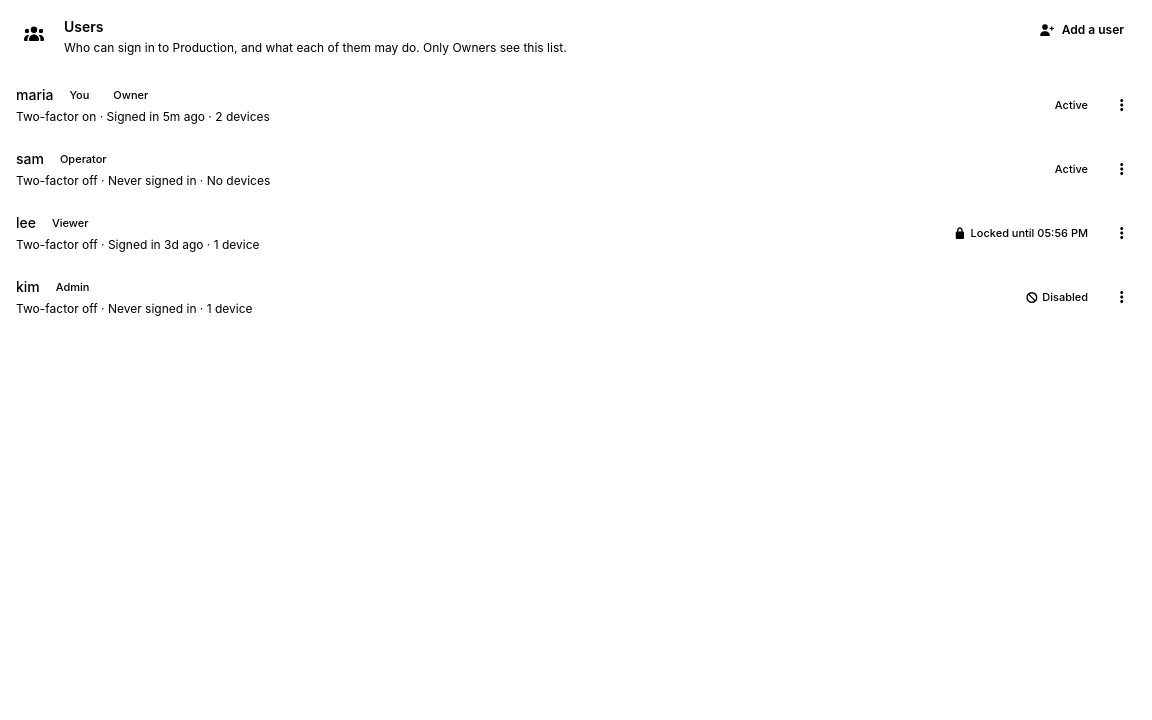
it: UsersCard › adds a user with a role and a first password, then offers an enrollment code
Click the button "Add a user" at (1081, 30), box [1027,16,1136,44]
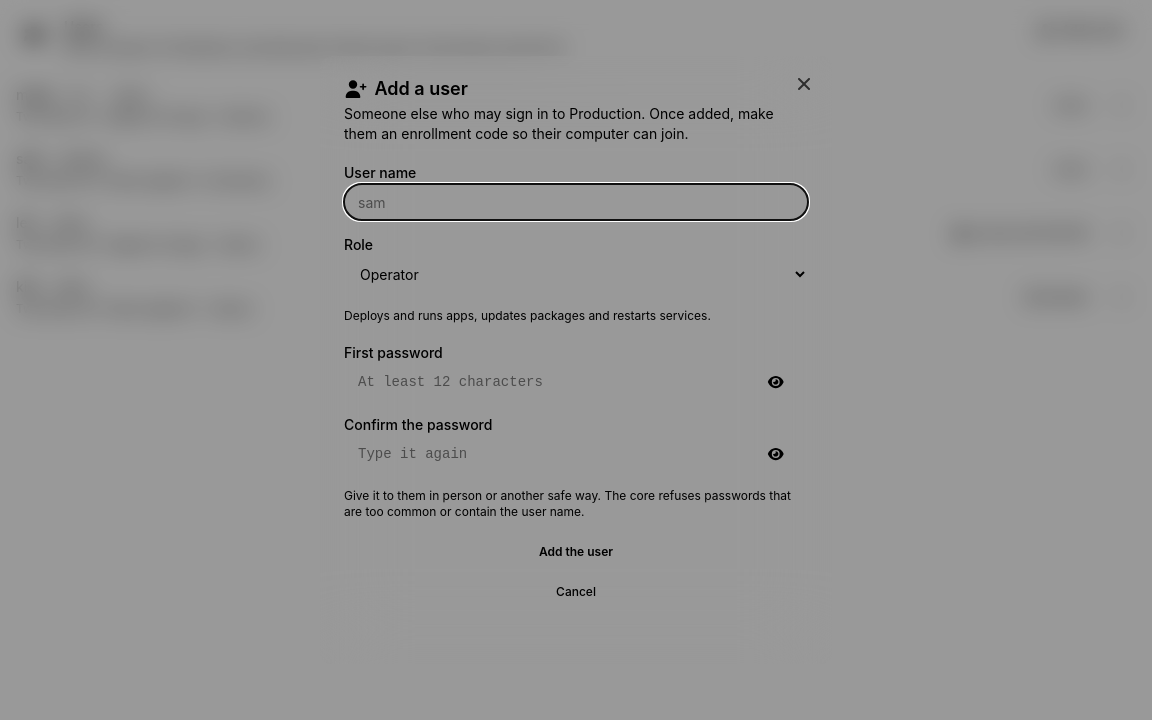
Type "ana" into the field labelled "User name" at (576, 202), box [344,184,808,220]
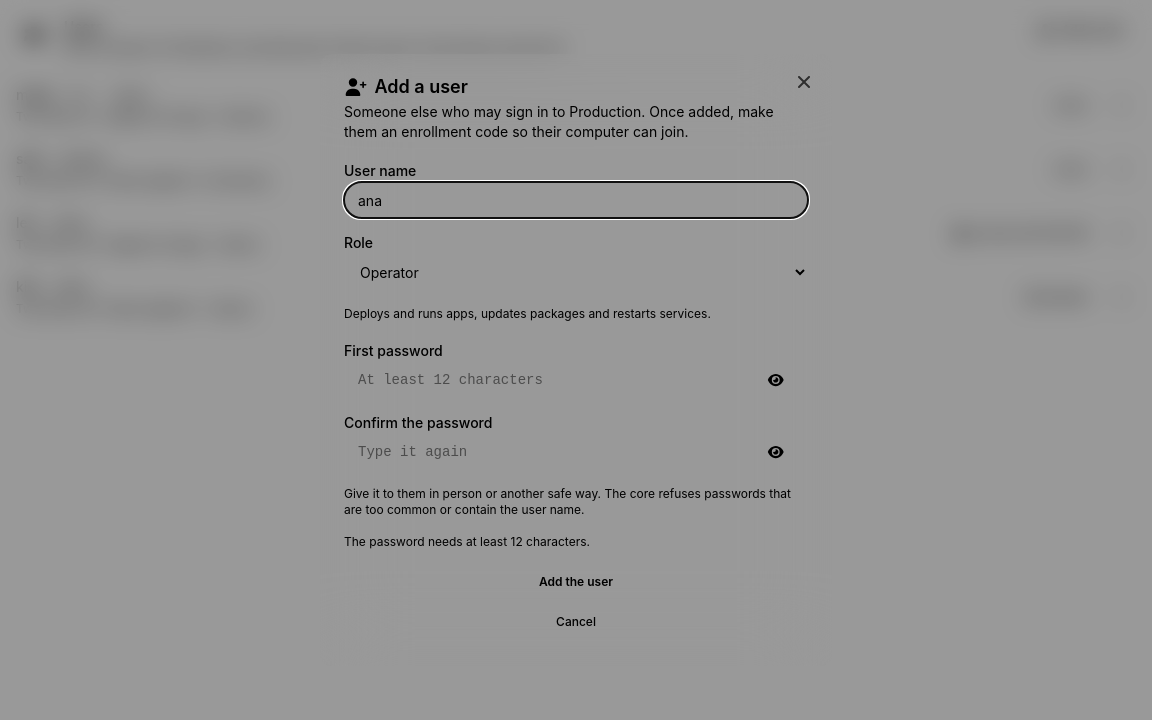
Select "Admin" in the dropdown labelled "Role" at (576, 272), box [344,254,808,290]
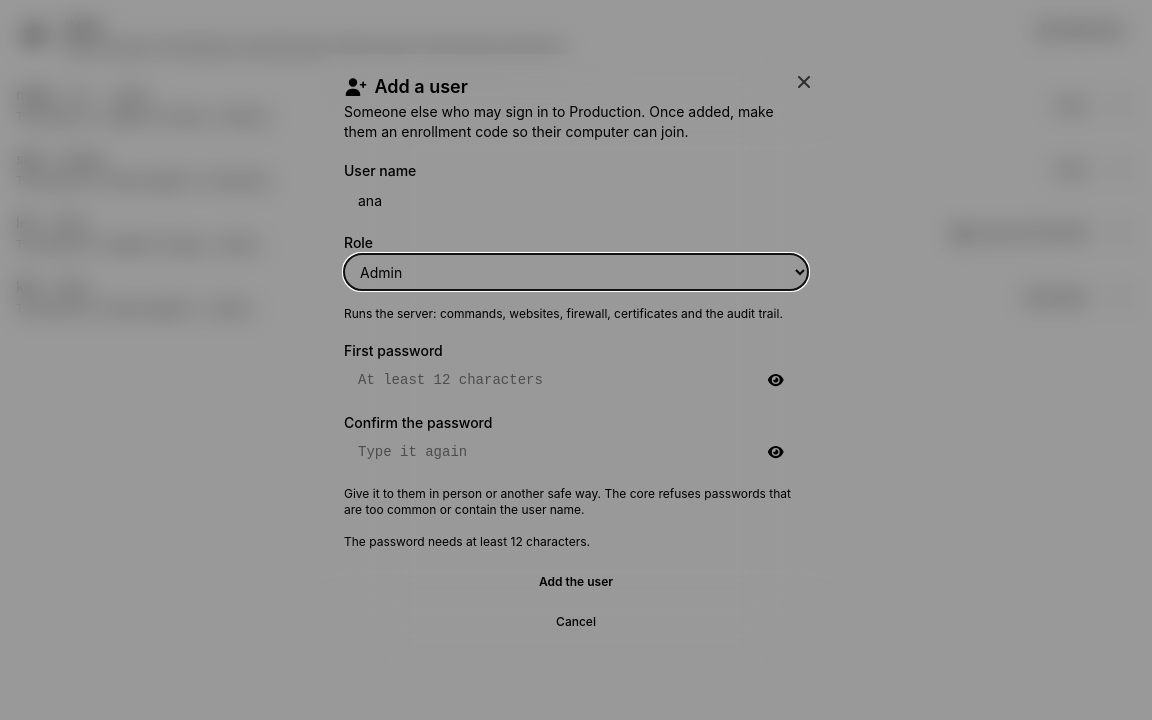
Now the text "Runs the server" is shown, box [344,306,783,321]
Type "a brand new passphrase" into the password field labelled "First password" at (576, 380), box [344,362,808,398]
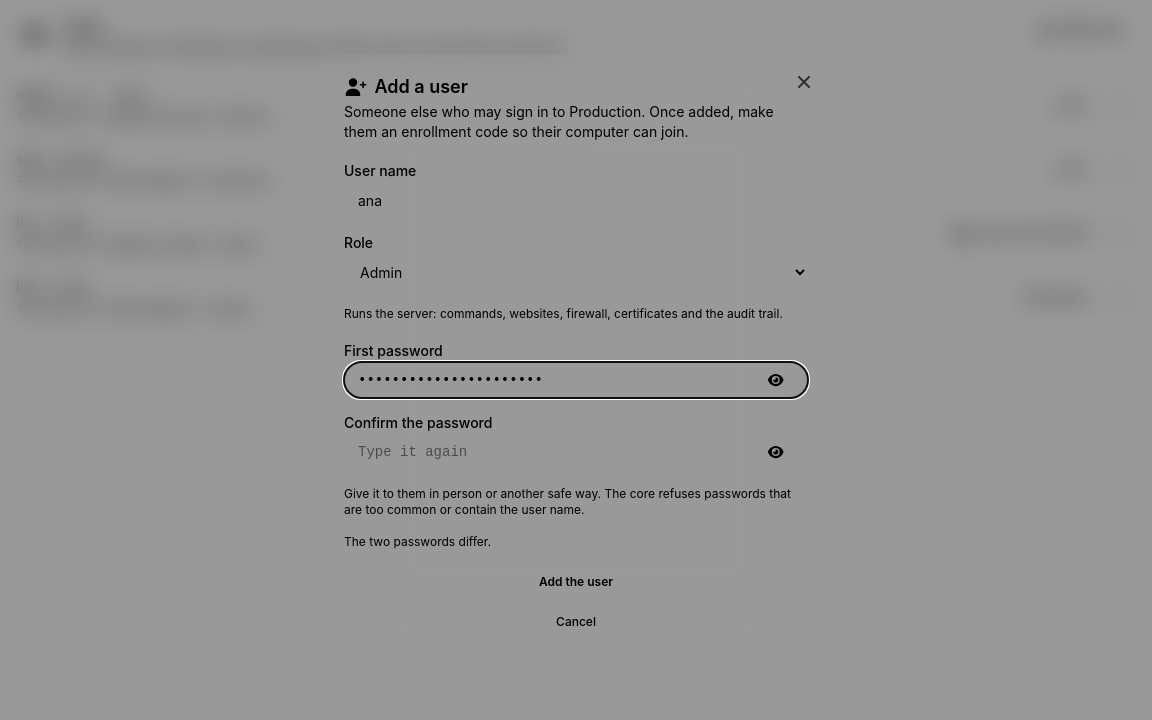
Type "a brand new passphrase" into the password field labelled "Confirm the password" at (576, 452), box [344,434,808,470]
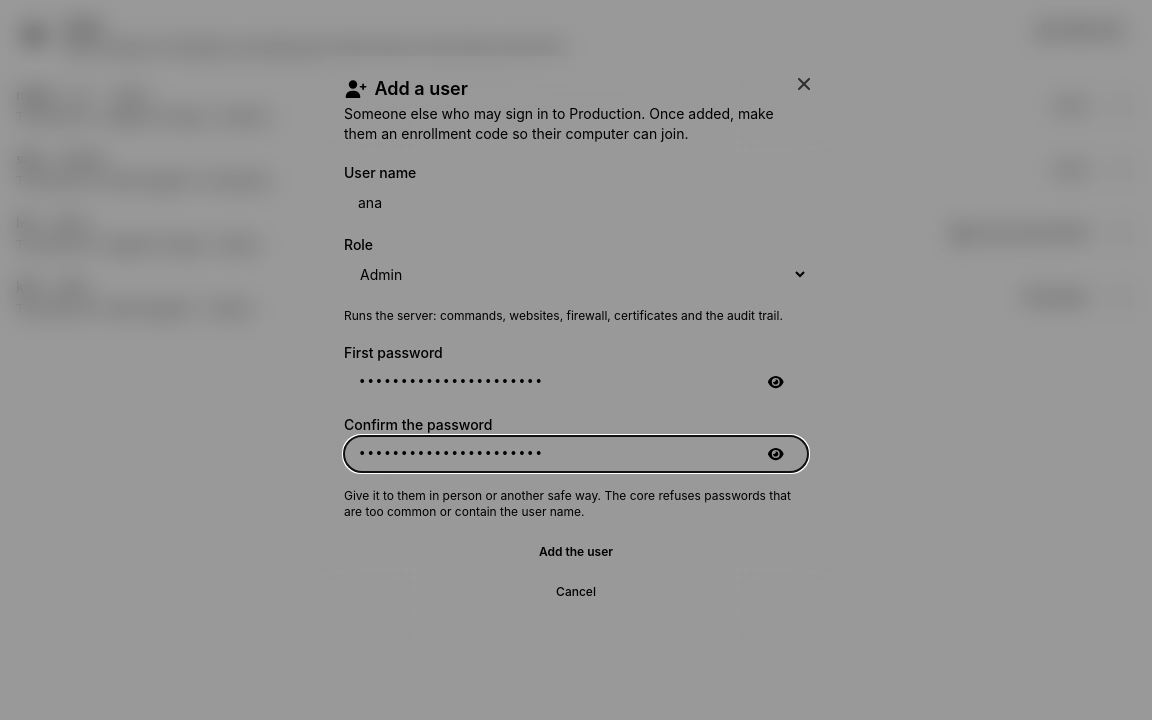
Click the button "Add the user" at (576, 552), box [344,536,808,568]
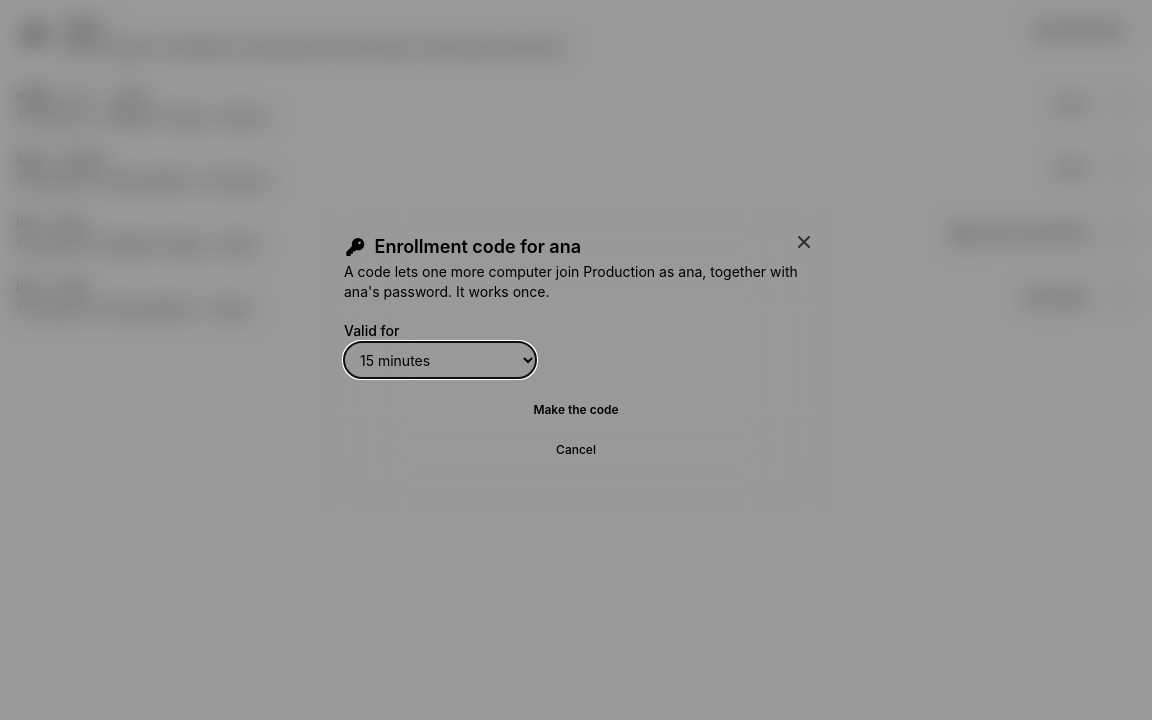
Now the dialog "Enrollment code for ana" is shown, box [320,214,832,506]
